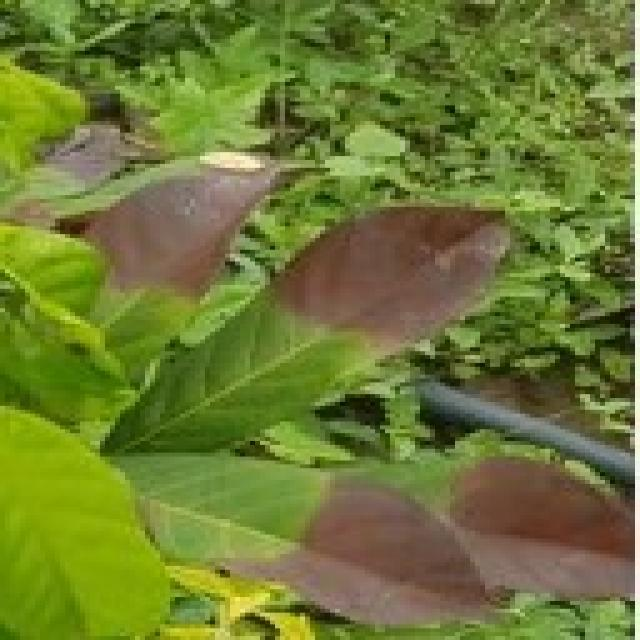Leaf Blight: (277, 432, 640, 631), (299, 168, 548, 366), (84, 110, 270, 302)
